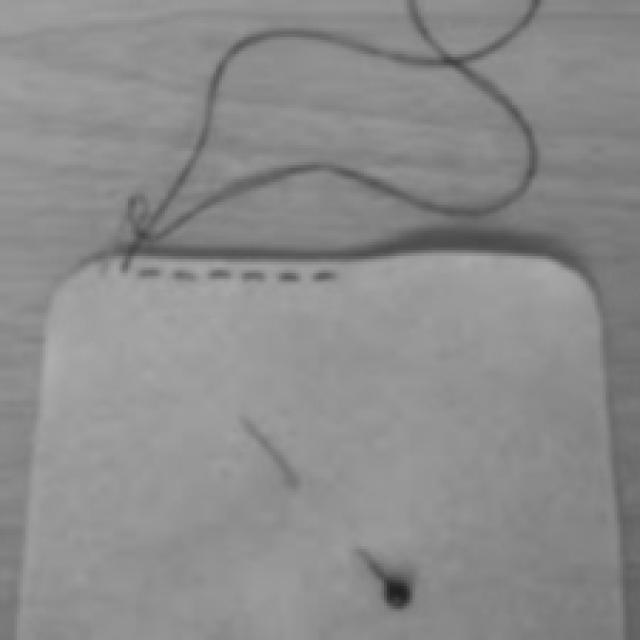stitch: (241, 270, 266, 282), (208, 268, 231, 280), (312, 270, 336, 281), (174, 269, 195, 280), (138, 268, 160, 278), (279, 271, 299, 281)
